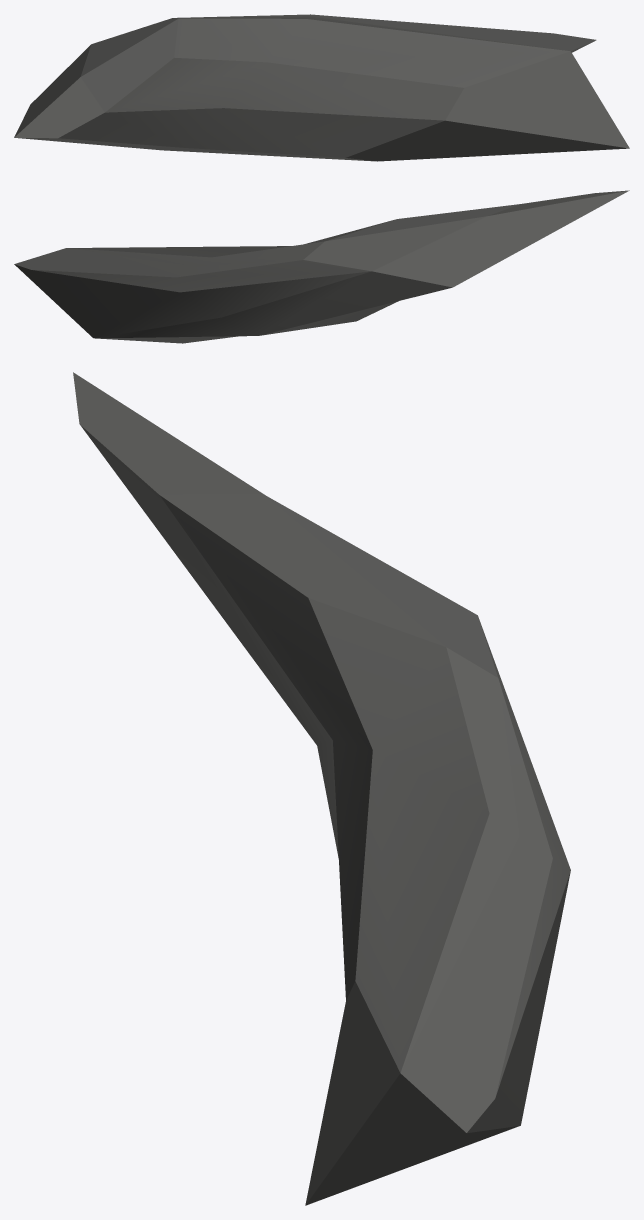
The model's file is worlds_SM_Env_Floating_Rocks_Single_04.gltf.
3 views of the same model, one above another, from view 1: azimuth 30°, elevation 25°; view 2: azimuth 150°, elevation 25°; view 3: azimuth 270°, elevation 25° (orthographic). The views are drawn at different scales.
Parts seen in each view (by area): view 1: SM_Env_Floating_Rocks_Single_04; view 2: SM_Env_Floating_Rocks_Single_04; view 3: SM_Env_Floating_Rocks_Single_04.
Part boxes in pixels (left/top/right/bottom): SM_Env_Floating_Rocks_Single_04: left=14, top=14, right=629, bottom=161; SM_Env_Floating_Rocks_Single_04: left=14, top=190, right=629, bottom=343; SM_Env_Floating_Rocks_Single_04: left=73, top=372, right=570, bottom=1205.
Size of the model in its own units: 7.09 by 2.26 by 2.95.
Materials: 1 (1 with a texture image).
